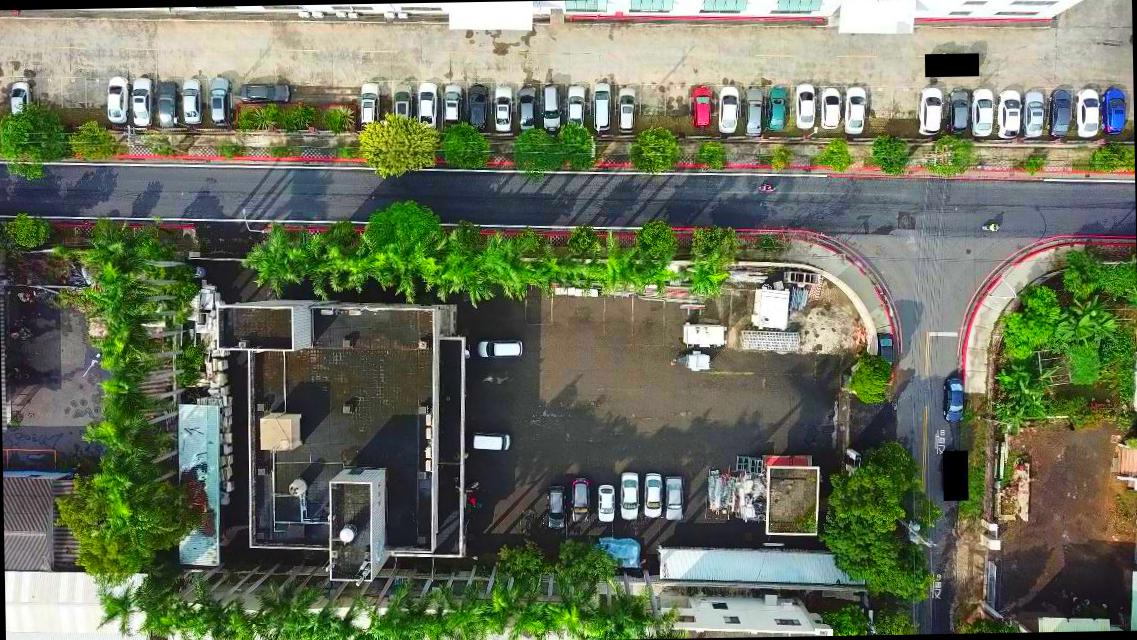vehicle: (1075, 86, 1099, 137), (996, 90, 1021, 138), (941, 378, 967, 424), (717, 85, 741, 132), (1103, 88, 1127, 134), (971, 88, 994, 136), (919, 88, 943, 134), (1050, 86, 1072, 136), (240, 82, 290, 104), (467, 84, 490, 130), (845, 86, 867, 134), (208, 75, 230, 123), (132, 76, 152, 128), (949, 87, 971, 133), (416, 82, 438, 128), (592, 84, 613, 132), (478, 337, 526, 358), (182, 76, 202, 126), (106, 77, 128, 122), (1024, 90, 1045, 137), (665, 474, 686, 521), (618, 471, 638, 520), (544, 484, 566, 528), (156, 80, 177, 126), (617, 87, 637, 135), (360, 82, 380, 130), (745, 86, 764, 136), (565, 84, 585, 131), (691, 86, 712, 130), (796, 84, 816, 130), (543, 82, 562, 130), (570, 475, 589, 523), (8, 80, 30, 121), (820, 88, 841, 130), (392, 80, 410, 129), (496, 85, 514, 132), (767, 90, 788, 130), (473, 431, 511, 452), (519, 86, 537, 130), (644, 472, 662, 516), (596, 486, 616, 524), (444, 85, 462, 127), (877, 334, 892, 372)
